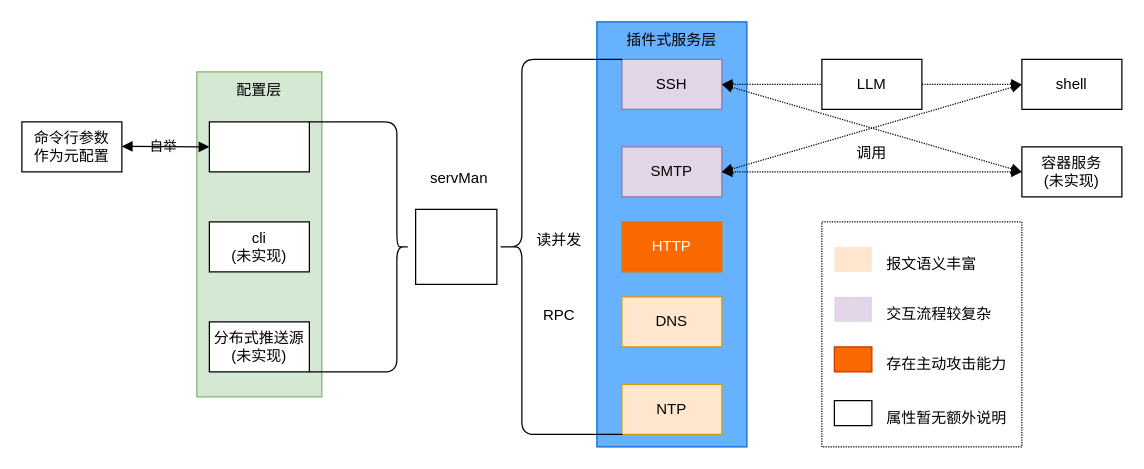
Some shapes in this 1144 by 469 pixel diagram are drawn without their labels. Each missing label, with the centre of its shape:
"b0gus 全局服务 控制器" goes at (455,246).
"写并发" goes at (358,246).
"本地配置" goes at (258,146).
